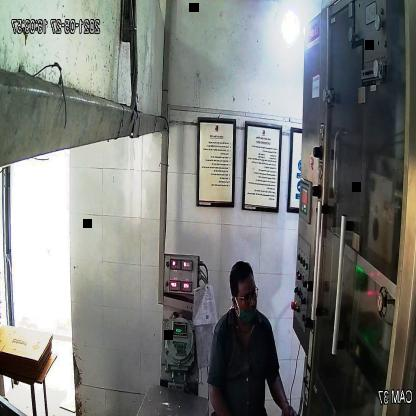goggles: (230, 283, 261, 308)
